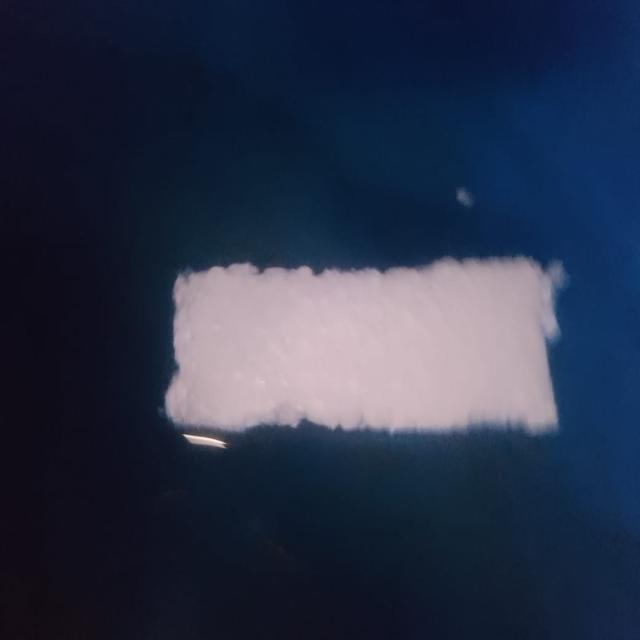litter: (158, 232, 586, 464)
